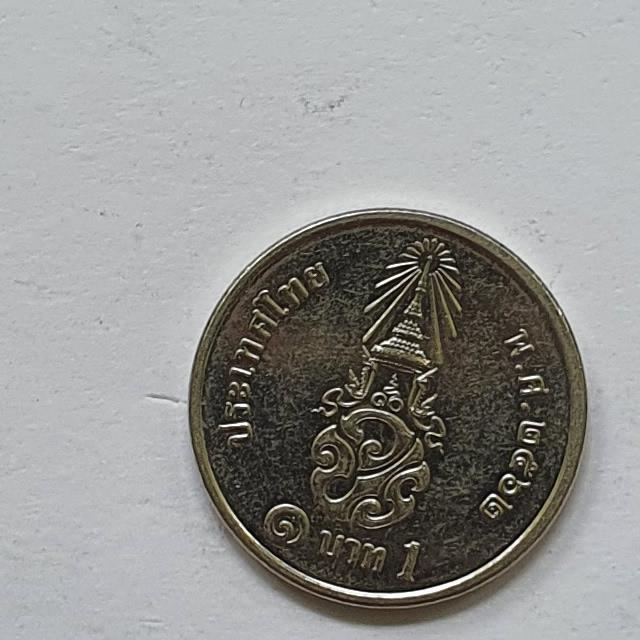1 Bath: (179, 201, 599, 619)
